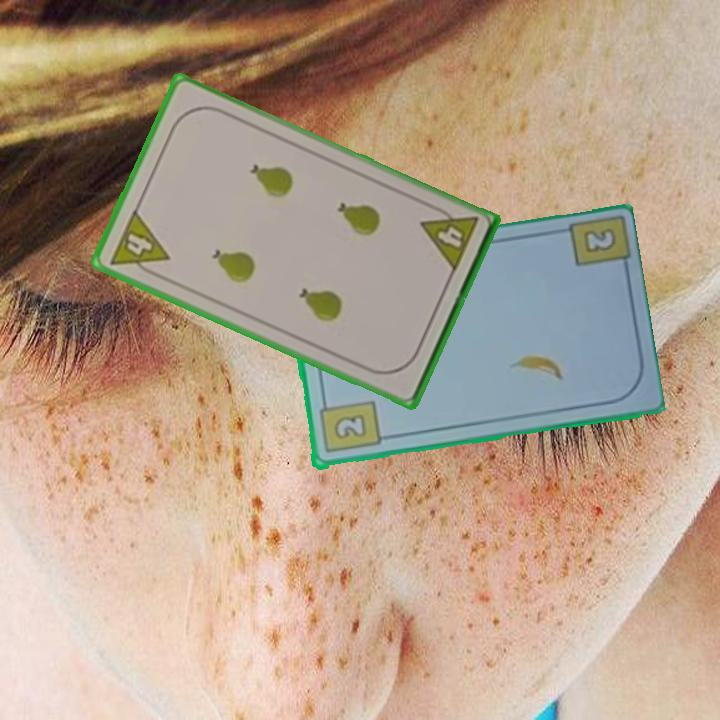2b: (315, 395, 382, 457), (579, 224, 619, 257)
4p: (106, 206, 172, 282), (417, 201, 481, 275)
